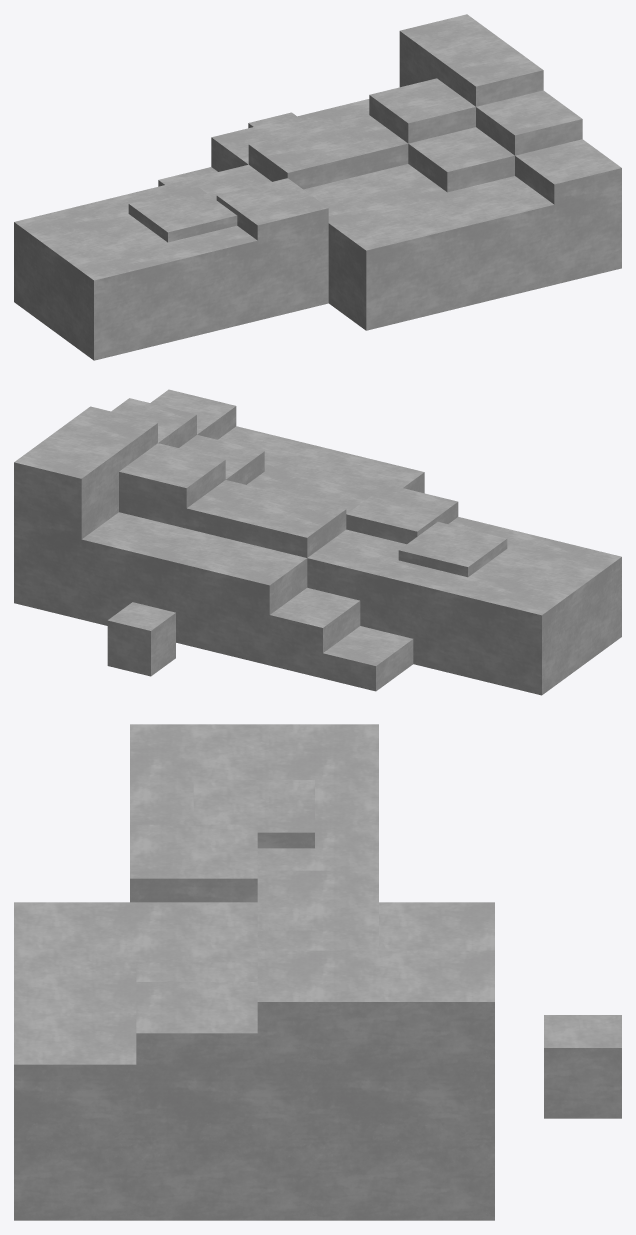
The model's file is table_metal_1-opt-v1.glb.
The picture shows the model from 3 angles, top to bottom: view 1: azimuth 30°, elevation 25°; view 2: azimuth 150°, elevation 25°; view 3: azimuth 270°, elevation 25°; orthographic projection. The views are drawn at different scales.
Visible parts, largest first — view 1: Mesh_15.007; view 2: Mesh_15.007; view 3: Mesh_15.007.
Part boxes in pixels (x1,y1,x2,y2): Mesh_15.007: (14, 14, 621, 360); Mesh_15.007: (14, 389, 621, 695); Mesh_15.007: (14, 724, 621, 1220).
Bounding box in the file's own units: 5.08 × 1.39 × 3.51.
Materials: 1 (1 with a texture image).
